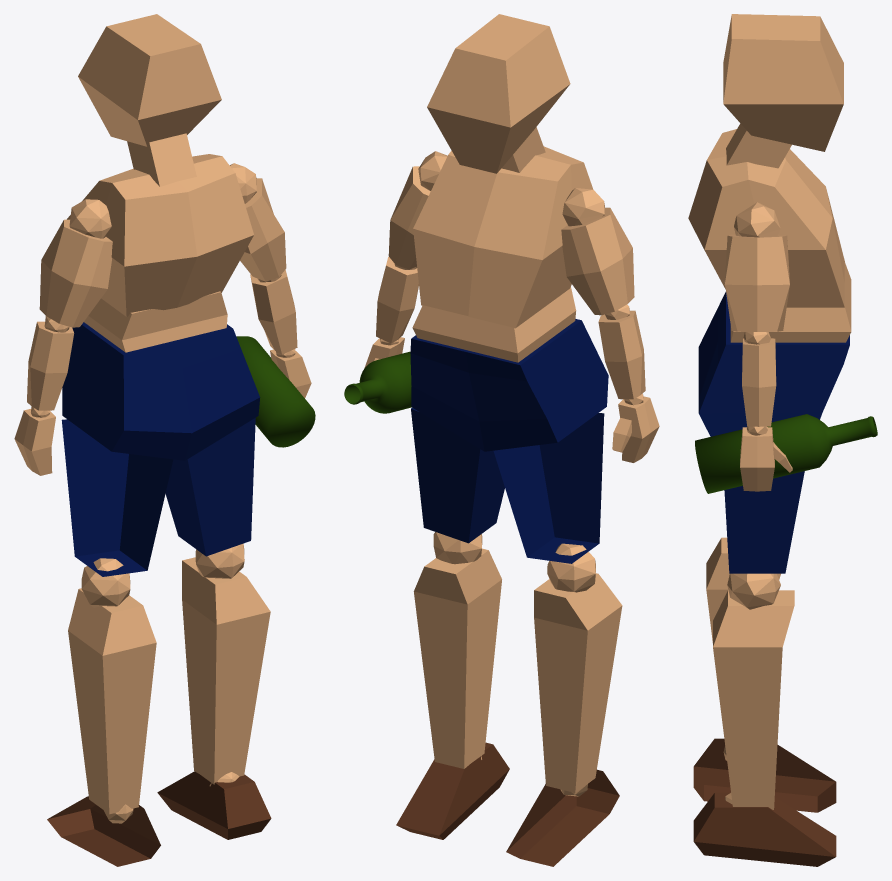
File: Mauxi.fbx
3 views of the same model, side by side, from view 1: azimuth 30°, elevation 25°; view 2: azimuth 150°, elevation 25°; view 3: azimuth 270°, elevation 25° (orthographic).
Visible parts, largest first — view 1: Torso.005, Cube.079, Cube.083, Cube.081, Head.005, BeinLi.005, BeinRe.005, Cube.085, Cube.082, Cube.080, Cube.084, Circle (+10 smaller); view 2: Cube.079, Torso.005, Head.005, Cube.081, Cube.083, BeinLi.005, BeinRe.005, Cube.085, Cube.080, Cube.082, Cube.084, Cube.086 (+9 smaller); view 3: Head.005, Cube.079, Cube.081, Torso.005, Cube.082, Circle, BeinRe.005, Cube.089, Cube.084, Cube.080, Cube.090, Cube.091 (+4 smaller).
Part boxes in pixels (x1,y1,x2,y2): Torso.005: (62,322,260,460); Cube.079: (67,154,253,316); Cube.083: (68,588,156,814); Cube.081: (182,557,270,784); Head.005: (78,14,221,146); BeinLi.005: (61,419,173,576); BeinRe.005: (165,418,255,556); Cube.085: (39,219,112,327); Cube.082: (157,771,271,839); Cube.080: (84,291,227,352); Cube.084: (47,796,160,866); Circle: (236,336,315,447); Cube.079: (413,146,593,328); Torso.005: (410,319,608,451); Head.005: (427,14,570,173); Cube.081: (413,548,501,768); Cube.083: (534,573,622,792); BeinLi.005: (493,413,604,563); BeinRe.005: (411,407,504,543); Cube.085: (561,207,634,315); Cube.080: (412,287,576,362); Cube.082: (396,742,509,839); Cube.084: (506,769,619,866); Cube.086: (598,310,645,399); Head.005: (723,14,843,151); Cube.079: (688,129,844,307); Cube.081: (713,590,794,809); Torso.005: (698,292,849,436); Cube.082: (693,792,836,866); Circle: (695,414,877,493); BeinRe.005: (724,471,804,573); Cube.089: (724,234,789,331); Cube.084: (693,738,836,812); Cube.080: (730,262,851,342); Cube.090: (742,338,776,426); Cube.091: (740,427,774,491).
Size of the model in its own units: 0.7974 by 2.18 by 0.4648.
